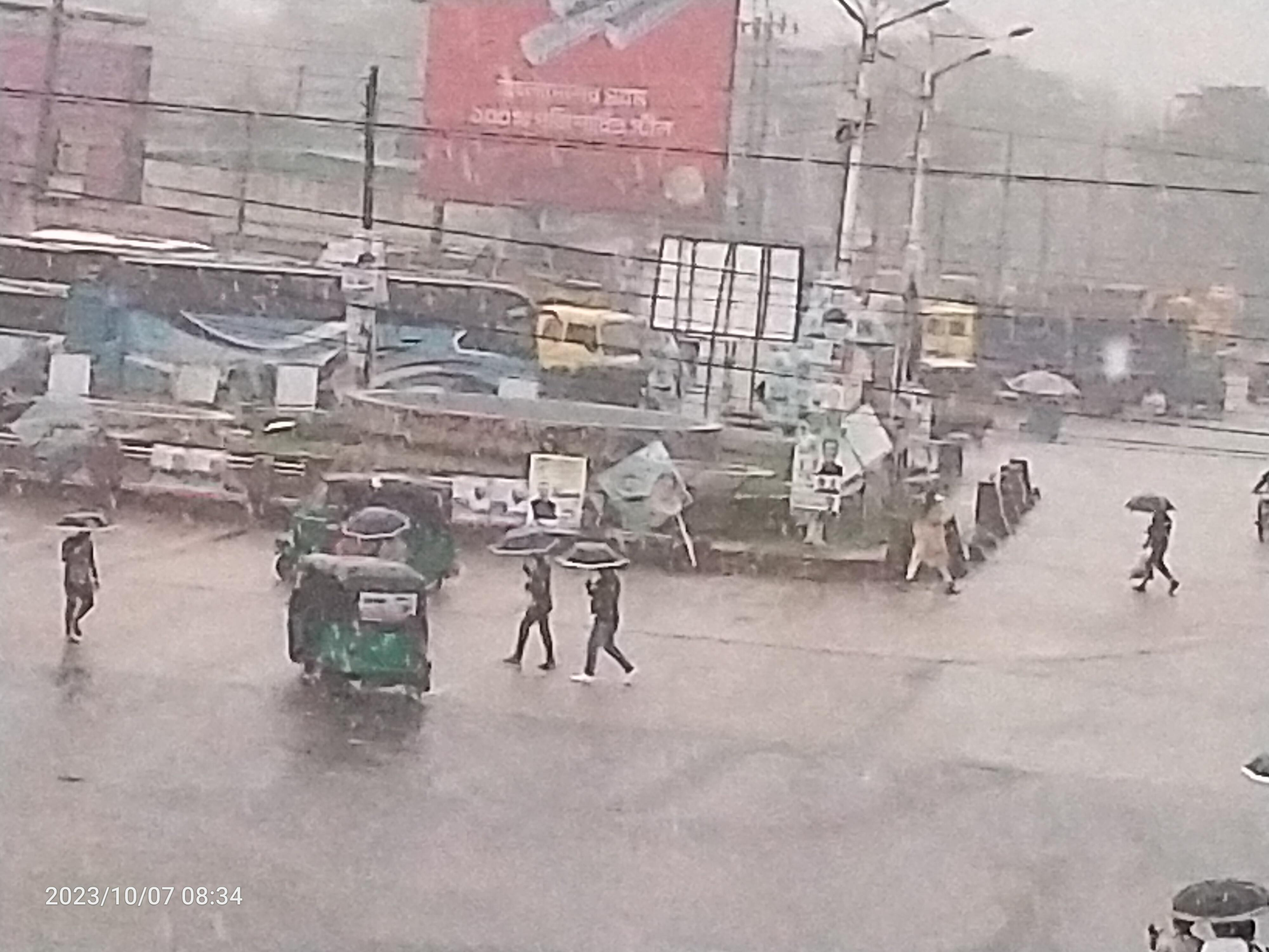Bus: (38, 216, 571, 464)
Truck: (885, 284, 1074, 418), (518, 284, 696, 424)
